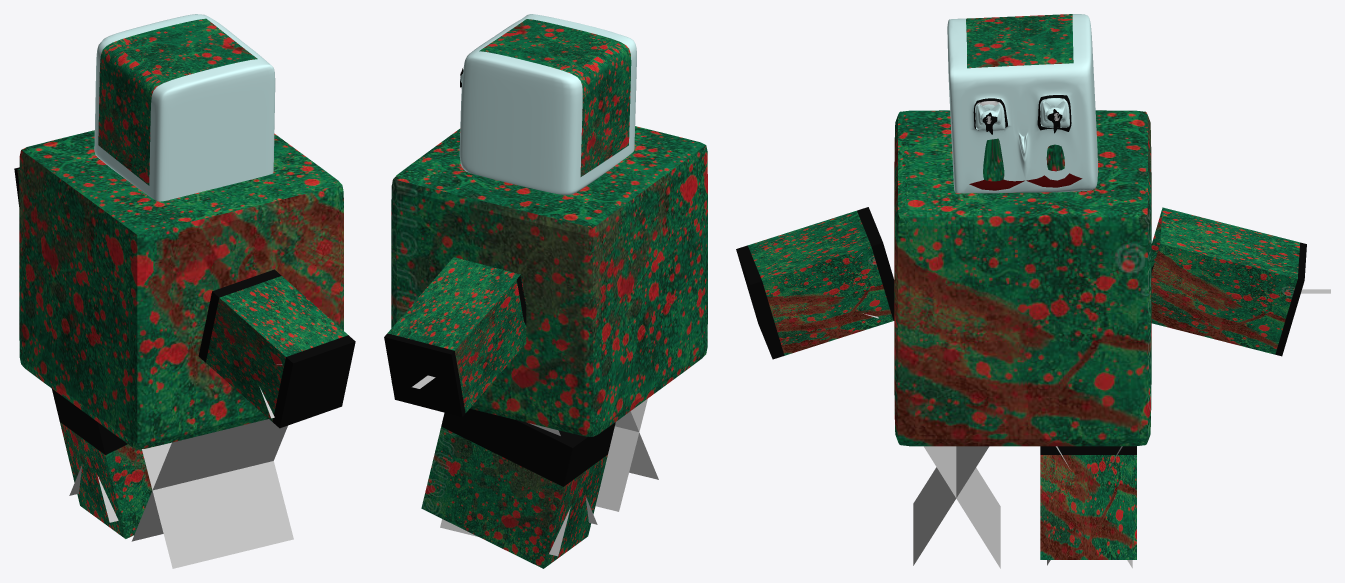
3 views of the same model, side by side, from view 1: azimuth 30°, elevation 25°; view 2: azimuth 150°, elevation 25°; view 3: azimuth 270°, elevation 25° (orthographic). The views are drawn at different scales.
Parts seen in each view (by area): view 1: Cube_Cube.001, Cube.001_Cube.002, Cube.005_Cube.007, RectLL1.001_Plane.011, Cube.003_Cube.004, RectRL1_Plane.009; view 2: Cube_Cube.001, Cube.001_Cube.002, Cube.003_Cube.004, Cube.004_Cube.005, RectRL1_Plane.009, RectLL1.001_Plane.011, RectRL2_Plane.010; view 3: Cube_Cube.001, Cube.001_Cube.002, Cube.004_Cube.005, Cube.005_Cube.007, Cube.003_Cube.004, RectRL1_Plane.009, RectLL1.001_Plane.011.
Boxes of the visible parts, x1,y1,x2,y2 form: Cube_Cube.001: [19, 130, 343, 449]; Cube.001_Cube.002: [94, 14, 275, 201]; Cube.005_Cube.007: [198, 269, 355, 428]; RectLL1.001_Plane.011: [142, 442, 293, 568]; Cube.003_Cube.004: [52, 389, 152, 538]; RectRL1_Plane.009: [131, 419, 287, 541]; Cube_Cube.001: [391, 126, 707, 436]; Cube.001_Cube.002: [459, 14, 636, 195]; Cube.003_Cube.004: [421, 409, 615, 568]; Cube.004_Cube.005: [384, 257, 526, 416]; RectRL1_Plane.009: [595, 398, 647, 511]; RectLL1.001_Plane.011: [615, 411, 658, 479]; RectRL2_Plane.010: [440, 507, 570, 556]; Cube_Cube.001: [894, 110, 1151, 446]; Cube.001_Cube.002: [947, 14, 1097, 193]; Cube.004_Cube.005: [1151, 207, 1306, 356]; Cube.005_Cube.007: [736, 207, 894, 359]; Cube.003_Cube.004: [1040, 446, 1136, 559]; RectRL1_Plane.009: [924, 446, 1000, 568]; RectLL1.001_Plane.011: [913, 446, 989, 565].
Size of what is drawn, in the model's own units: 1.46 by 3.23 by 3.37.
14 materials, 1 textured.
